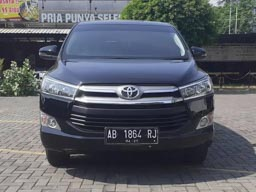plat: (106, 128, 157, 137)
